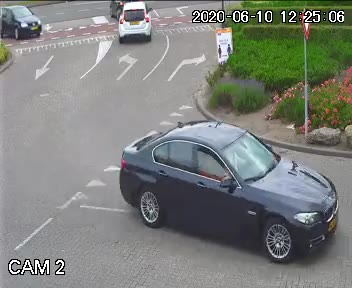car: (109, 112, 345, 272), (111, 3, 167, 45), (0, 3, 40, 40)
